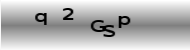2: (61, 7, 73, 21)
G: (90, 19, 104, 32)
S: (103, 23, 114, 38)
p: (117, 15, 131, 28)
q: (34, 11, 47, 25)
